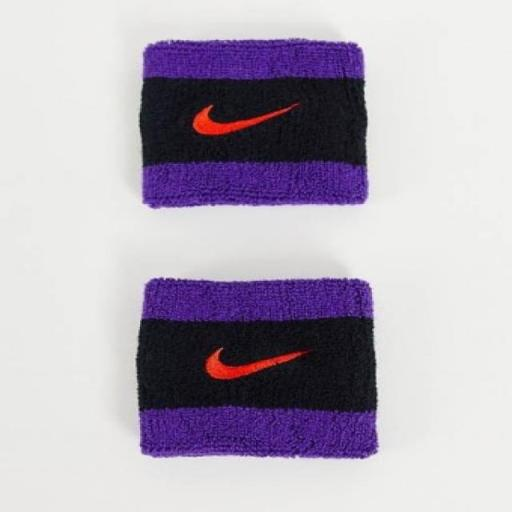Nike: (192, 338, 334, 388)
